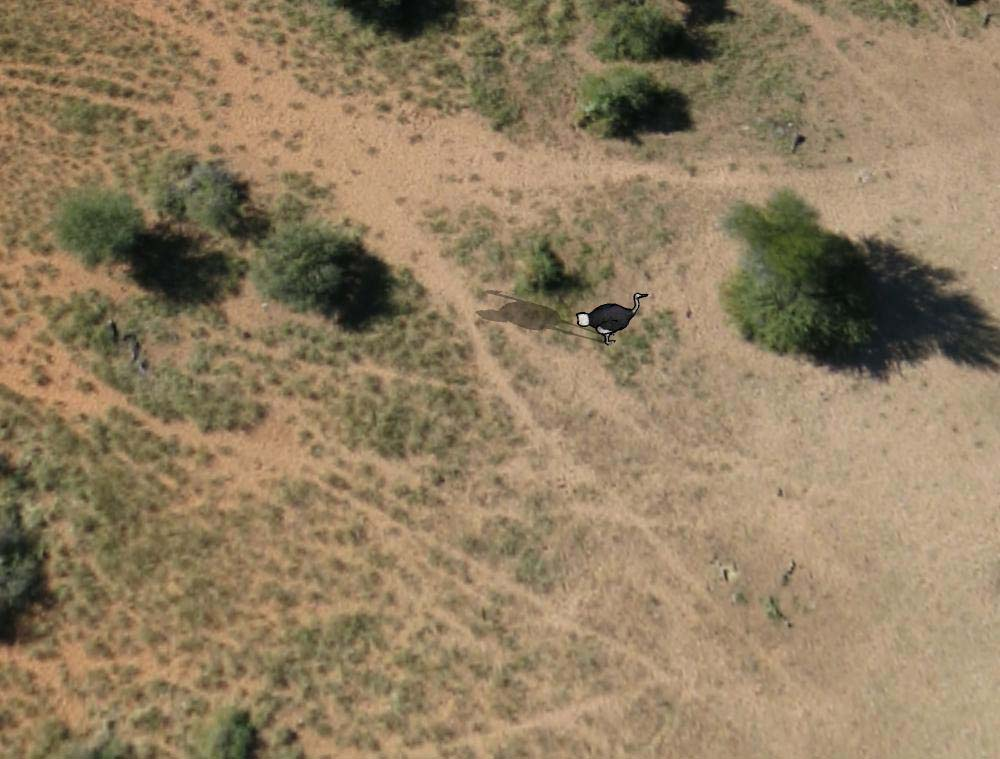ostrich: (576, 289, 651, 343)
